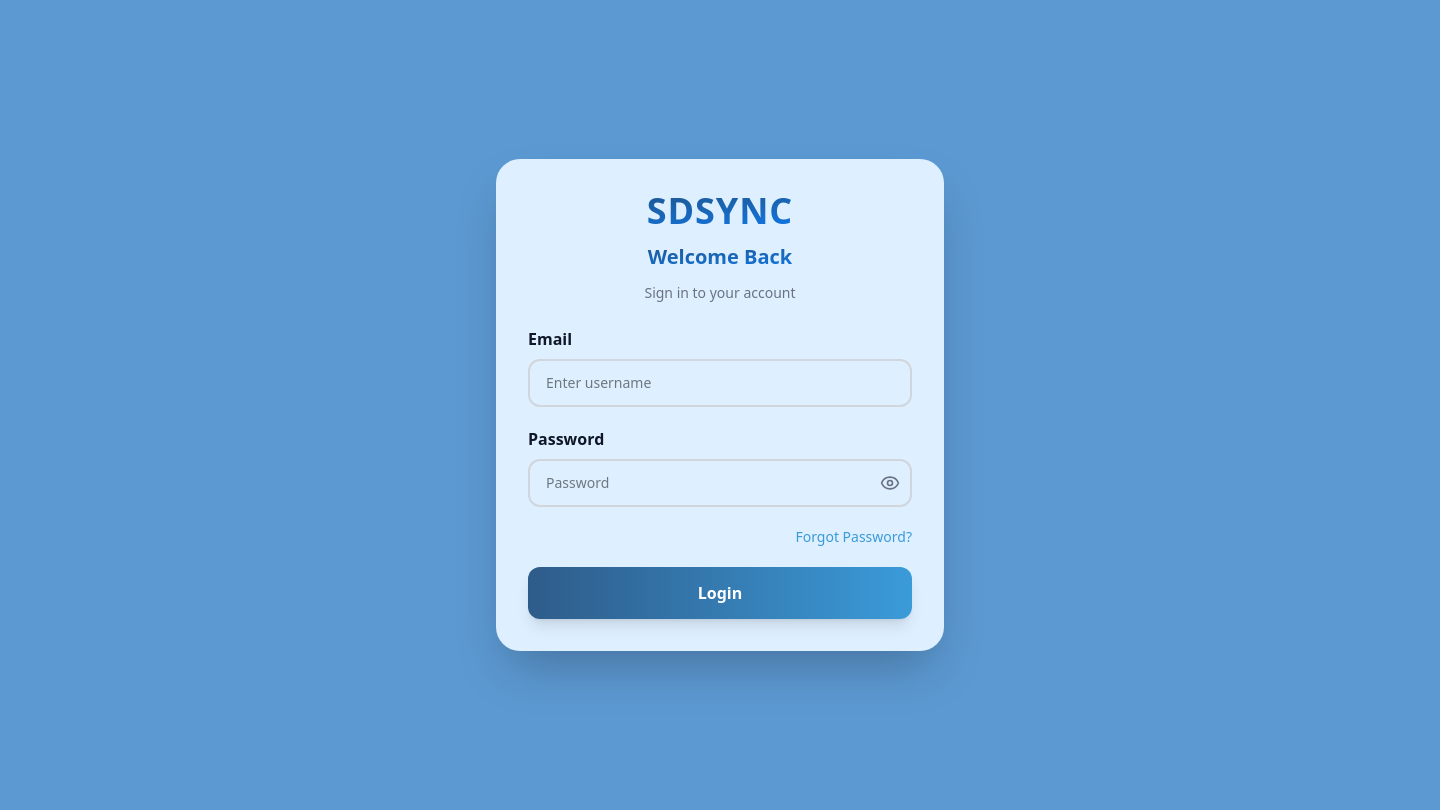
Test: Login › opens forgot password modal
What coordinates should you click on to do the following:
click the button "Forgot Password?"
I would click on:
 (854, 537)
Its box is [795,527,912,547].
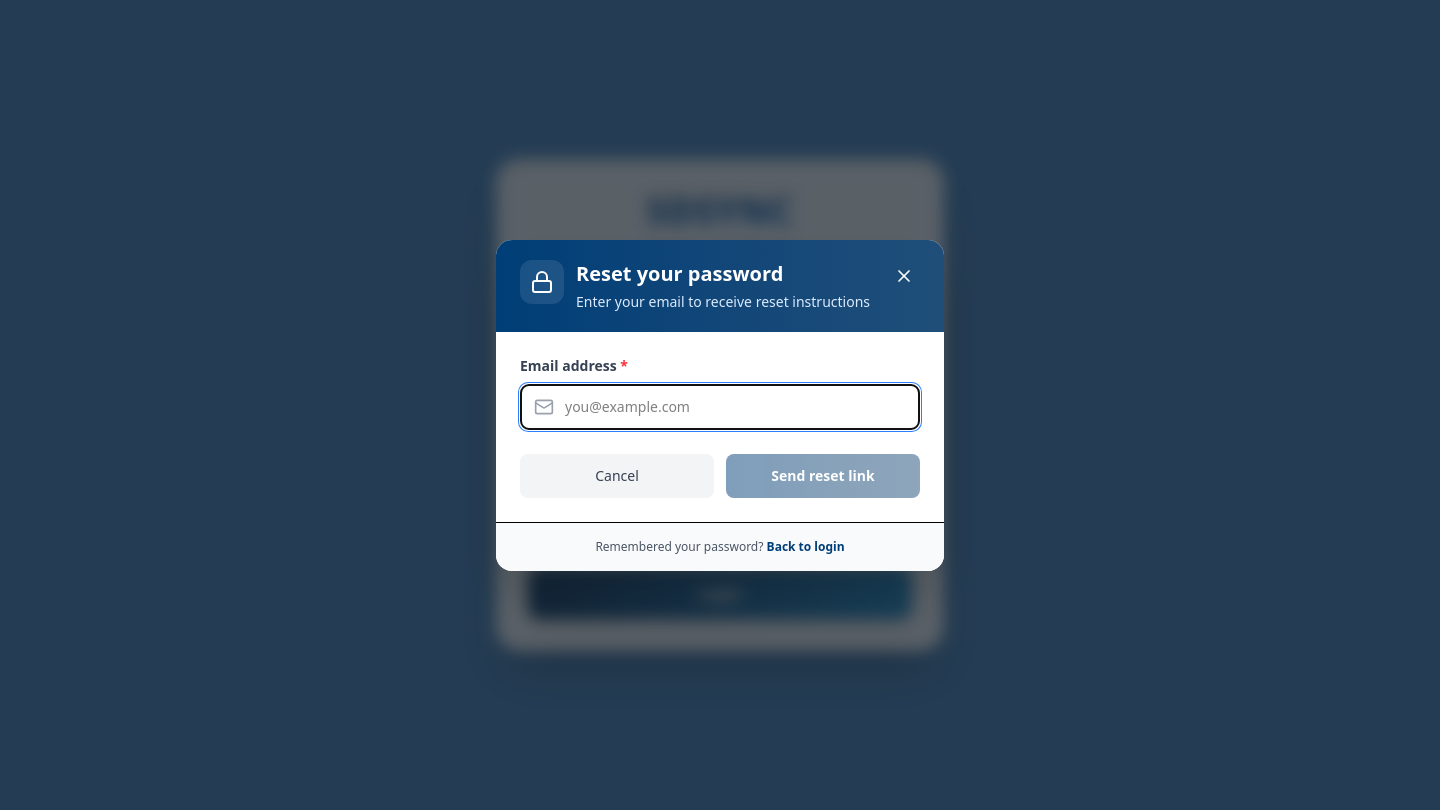
Now the heading "Reset your password" is shown, box [576,260,783,286]
